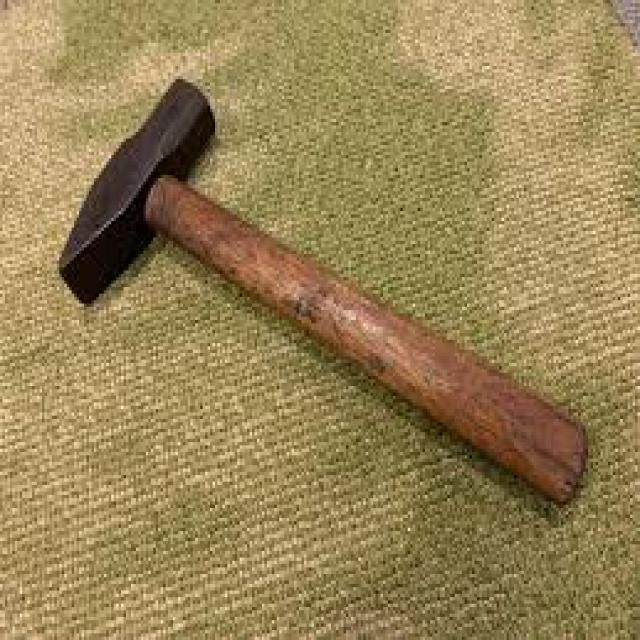hammer: (56, 69, 594, 518)
